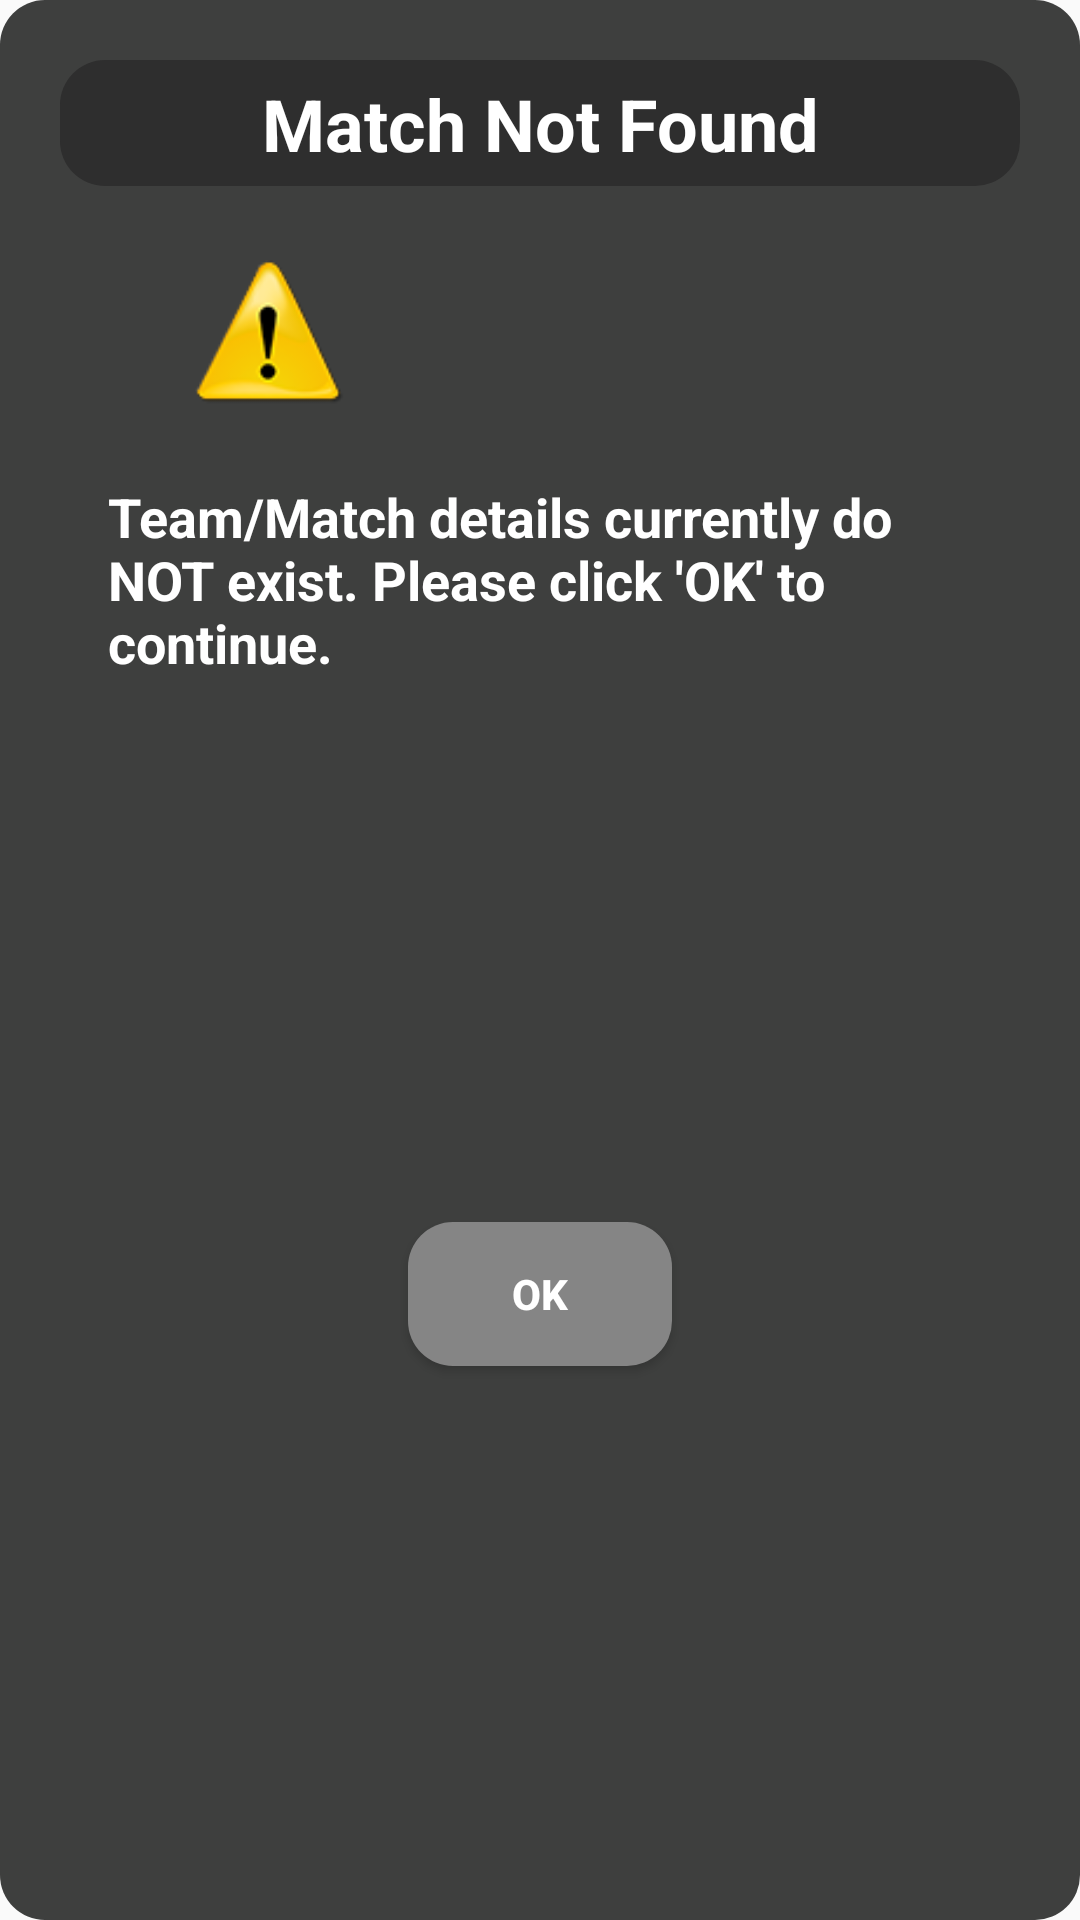

Icons on this 1080×1920 Android screen, each with the point to tap as point (x, y):
warning: point (268, 331)
